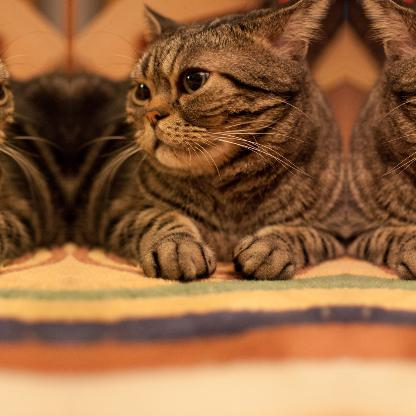Cat: (68, 0, 344, 281), (0, 0, 70, 281), (346, 0, 415, 281)
